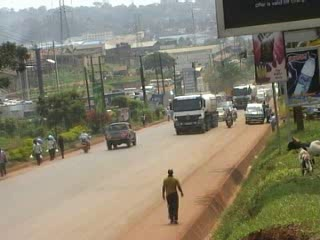Car: (218, 99, 238, 112), (213, 104, 224, 119)
Motorcycle: (76, 128, 95, 154), (221, 107, 234, 129), (230, 104, 238, 122)
